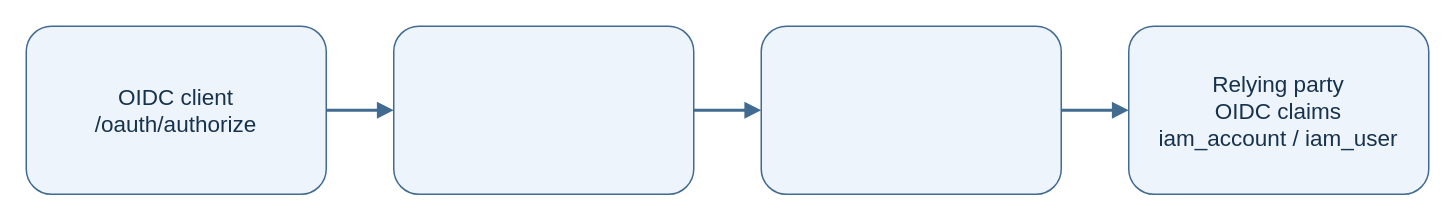
This 1455x221 diagram has some shape labels left out. The shapes that lost their labels are listed below. From the top down, each one's box as (x1, y1, x2, y2) in pixels, then its label:
(392, 25, 694, 194): OAuth policy identity source IAM / LDAP
(760, 25, 1061, 194): Authorization code + PKCE verifier /token exchange
